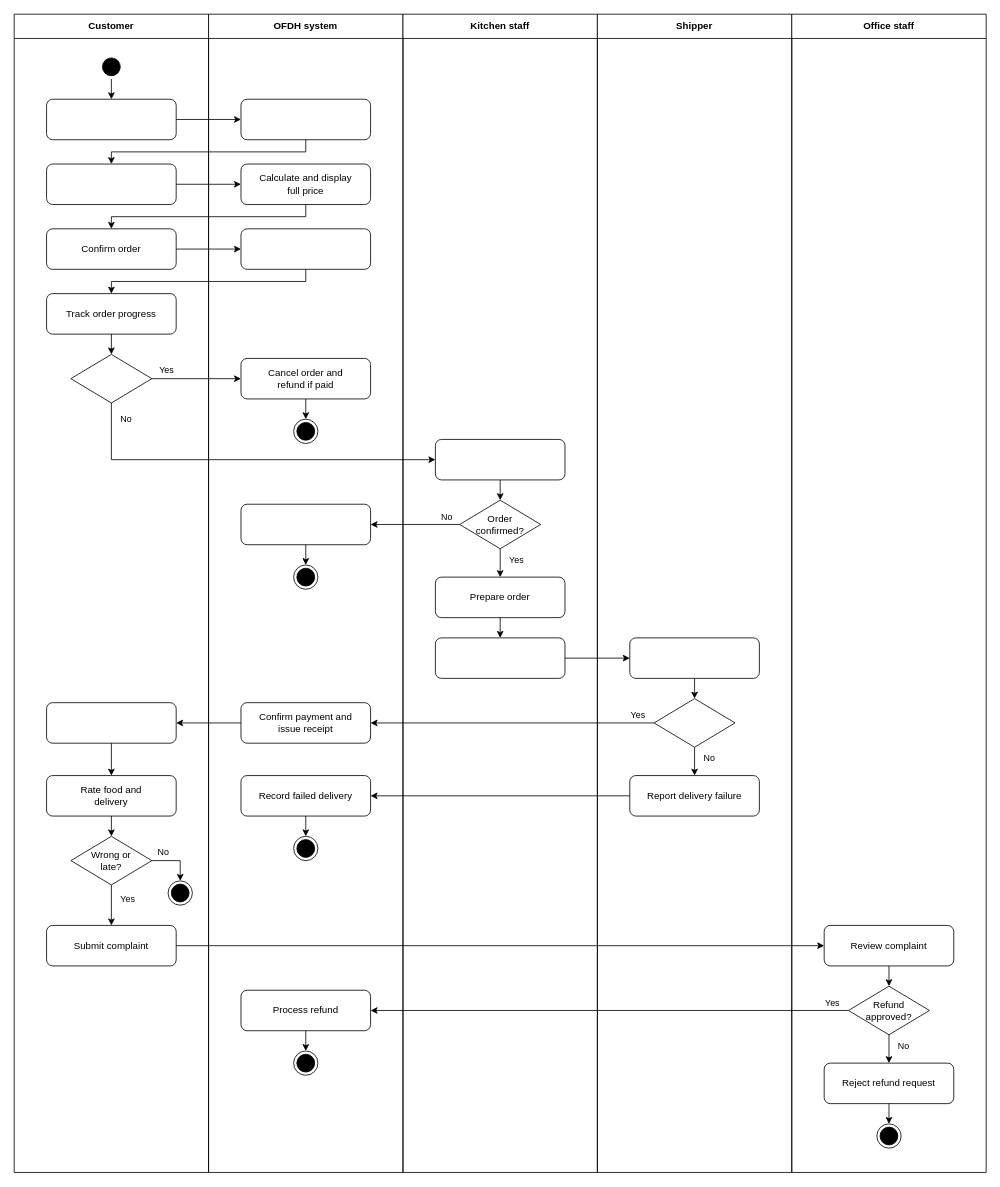
Some shapes in this 1000 by 1187 pixel diagram are drawn without their labels. The shapes that lost their labels are listed below. From the top down, each one's centre as x and y in pixels, then its label:
At (x=111, y=119): "Browse hubs, brands and menus".
At (x=305, y=119): "Show available hubs and menu items".
At (x=111, y=184): "Select items, address, voucher and payment".
At (x=305, y=248): "Record order and any online payment".
At (x=111, y=378): "Cancel early?".
At (x=500, y=459): "Review incoming order".
At (x=305, y=524): "Cancel rejected order and refund if paid".
At (x=500, y=657): "Mark order ready".
At (x=694, y=657): "Pick up, deliver and collect cash".
At (x=111, y=722): "Receive order and receipt".
At (x=694, y=722): "Delivered?".
